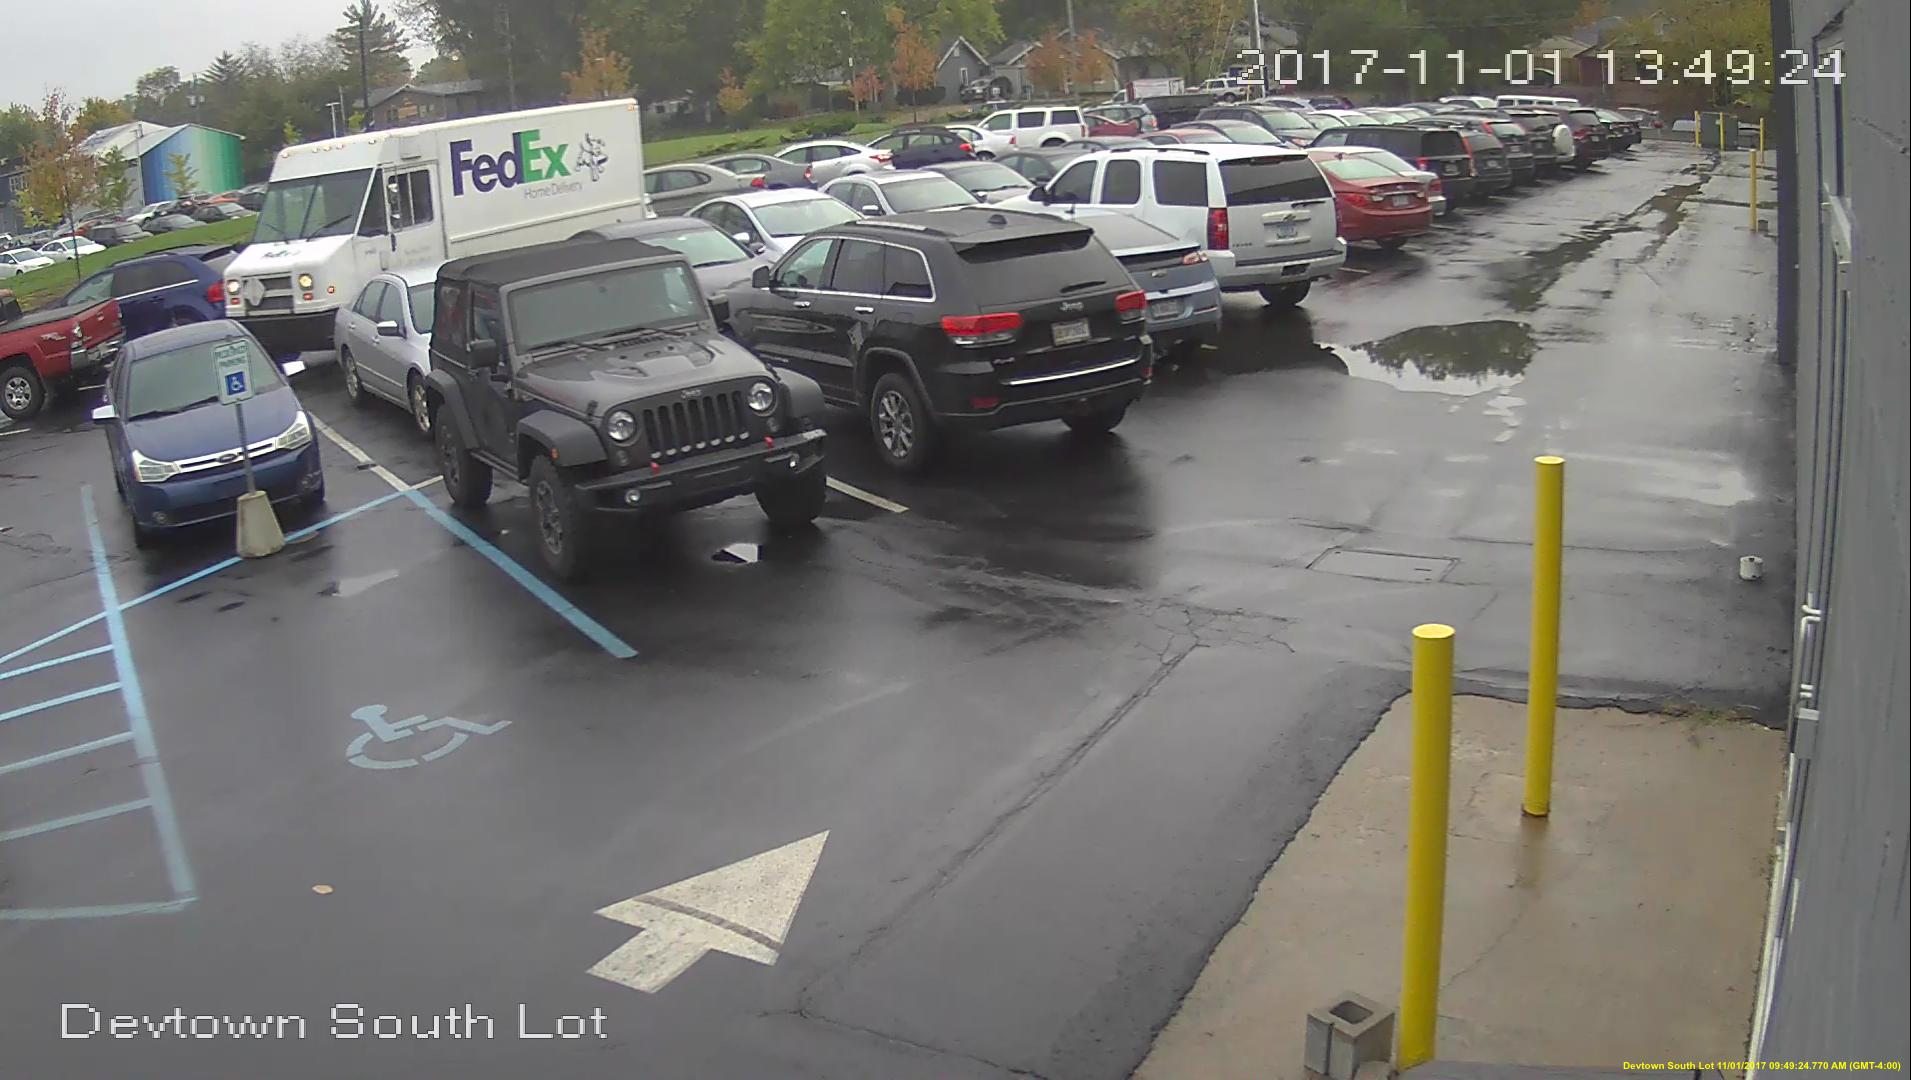fedex_truck: (238, 98, 642, 331)
